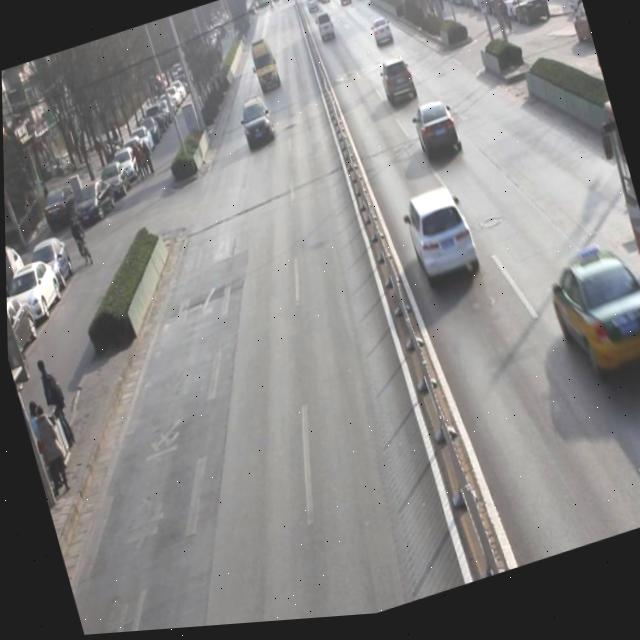car: (539, 243, 640, 404), (396, 188, 485, 306), (410, 103, 467, 176), (376, 61, 420, 119), (234, 98, 276, 154), (370, 20, 397, 57)
truck: (246, 39, 285, 104), (313, 14, 341, 54)
